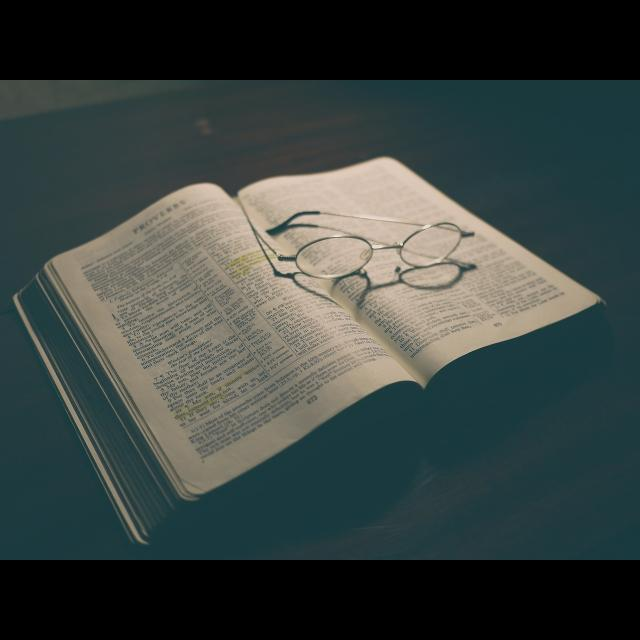glasses: (256, 219, 476, 277)
